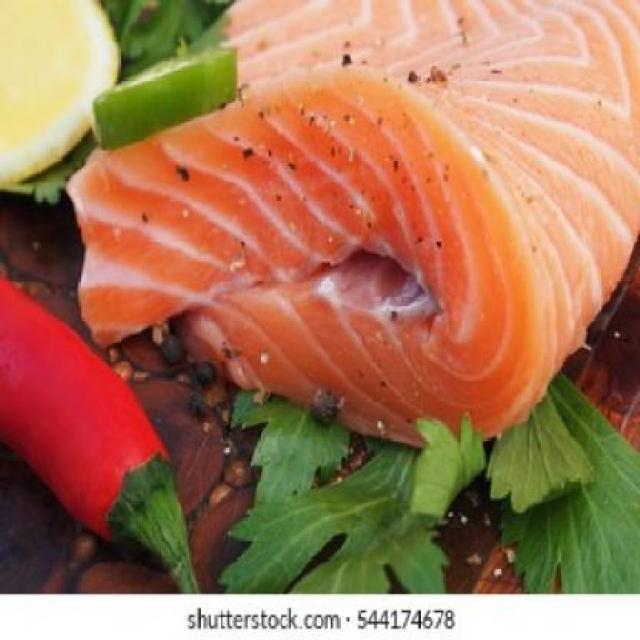salmon: (78, 3, 640, 455)
